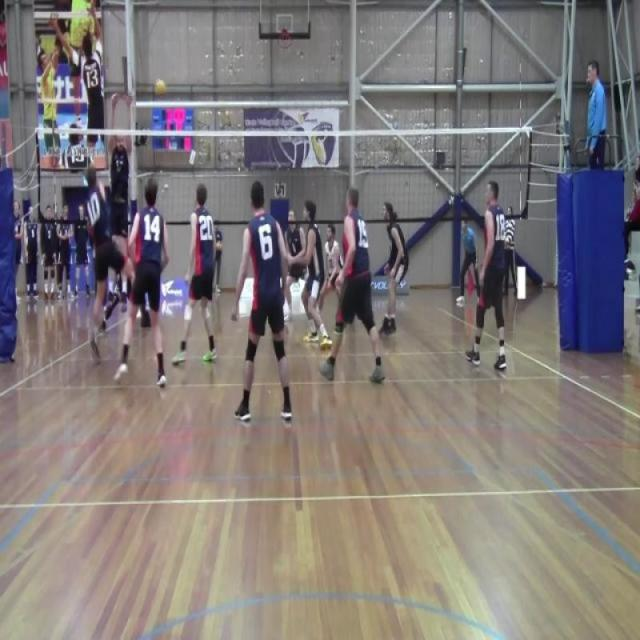volleyball: (152, 75, 167, 98), (216, 238, 223, 253)
